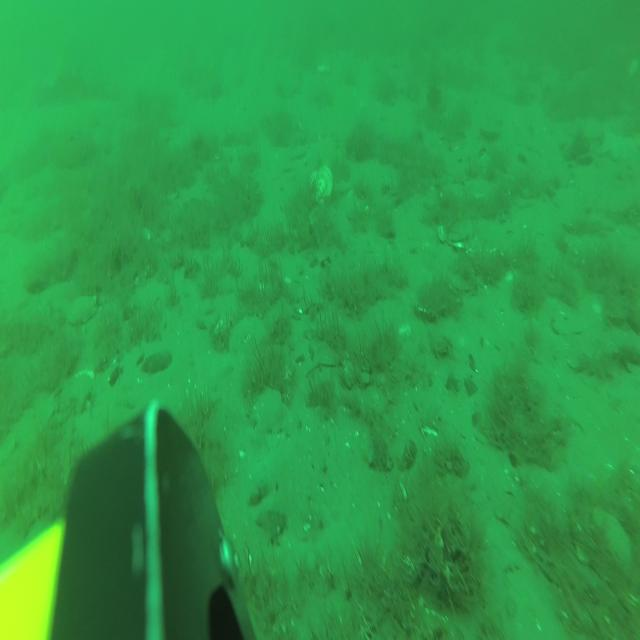scallop: (248, 387, 288, 430), (439, 214, 474, 249), (68, 294, 100, 323), (312, 165, 333, 203)
